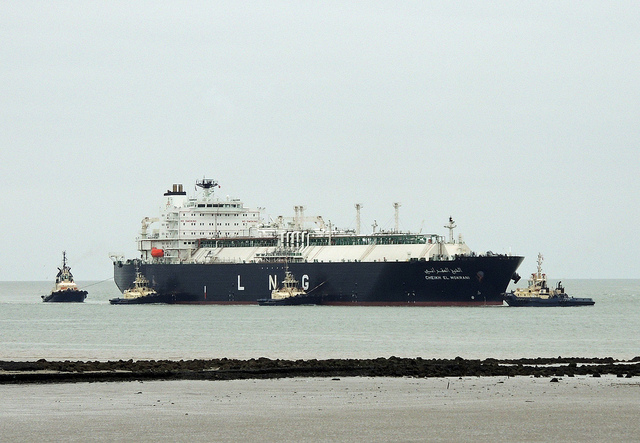LNG_ship: (112, 178, 523, 308)
tug_boat: (504, 255, 597, 307), (42, 250, 92, 306), (111, 263, 161, 306), (259, 268, 313, 307)
